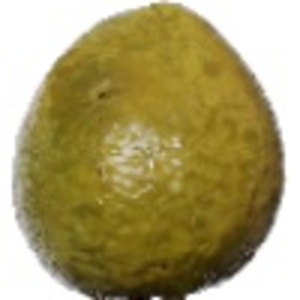goiaba: (14, 8, 287, 294)
